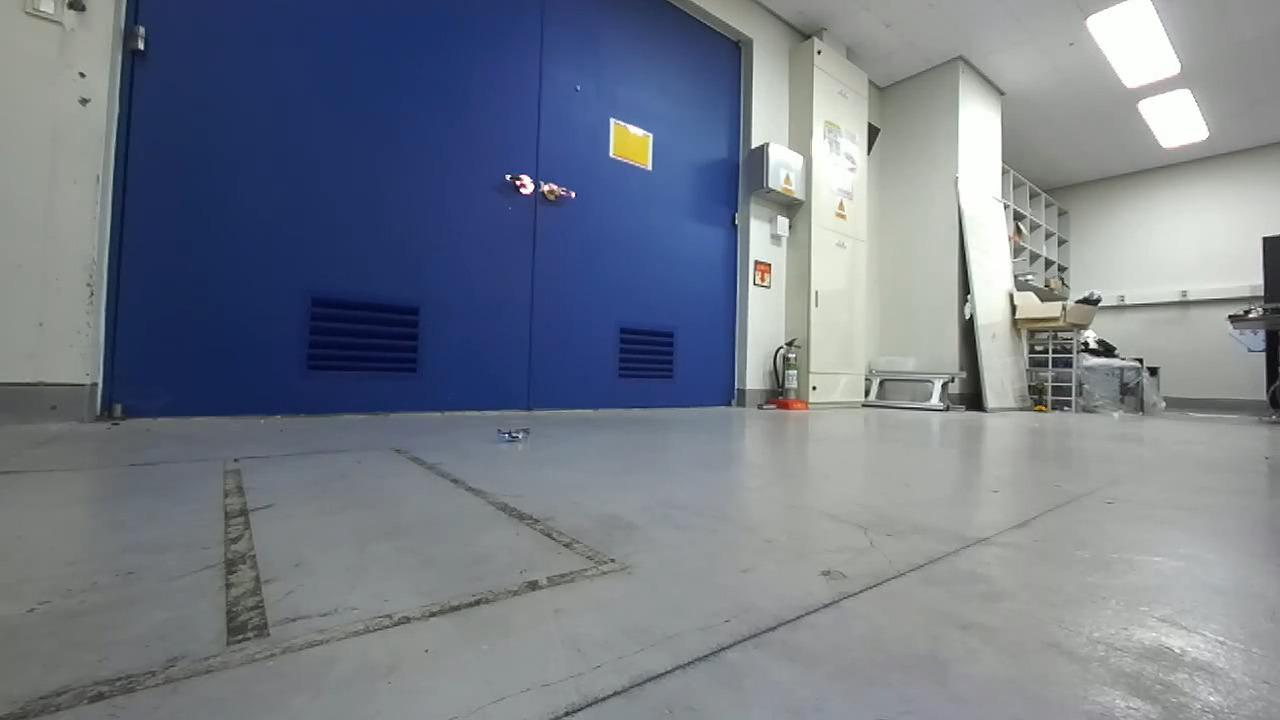crazyflie: (489, 422, 540, 448)
